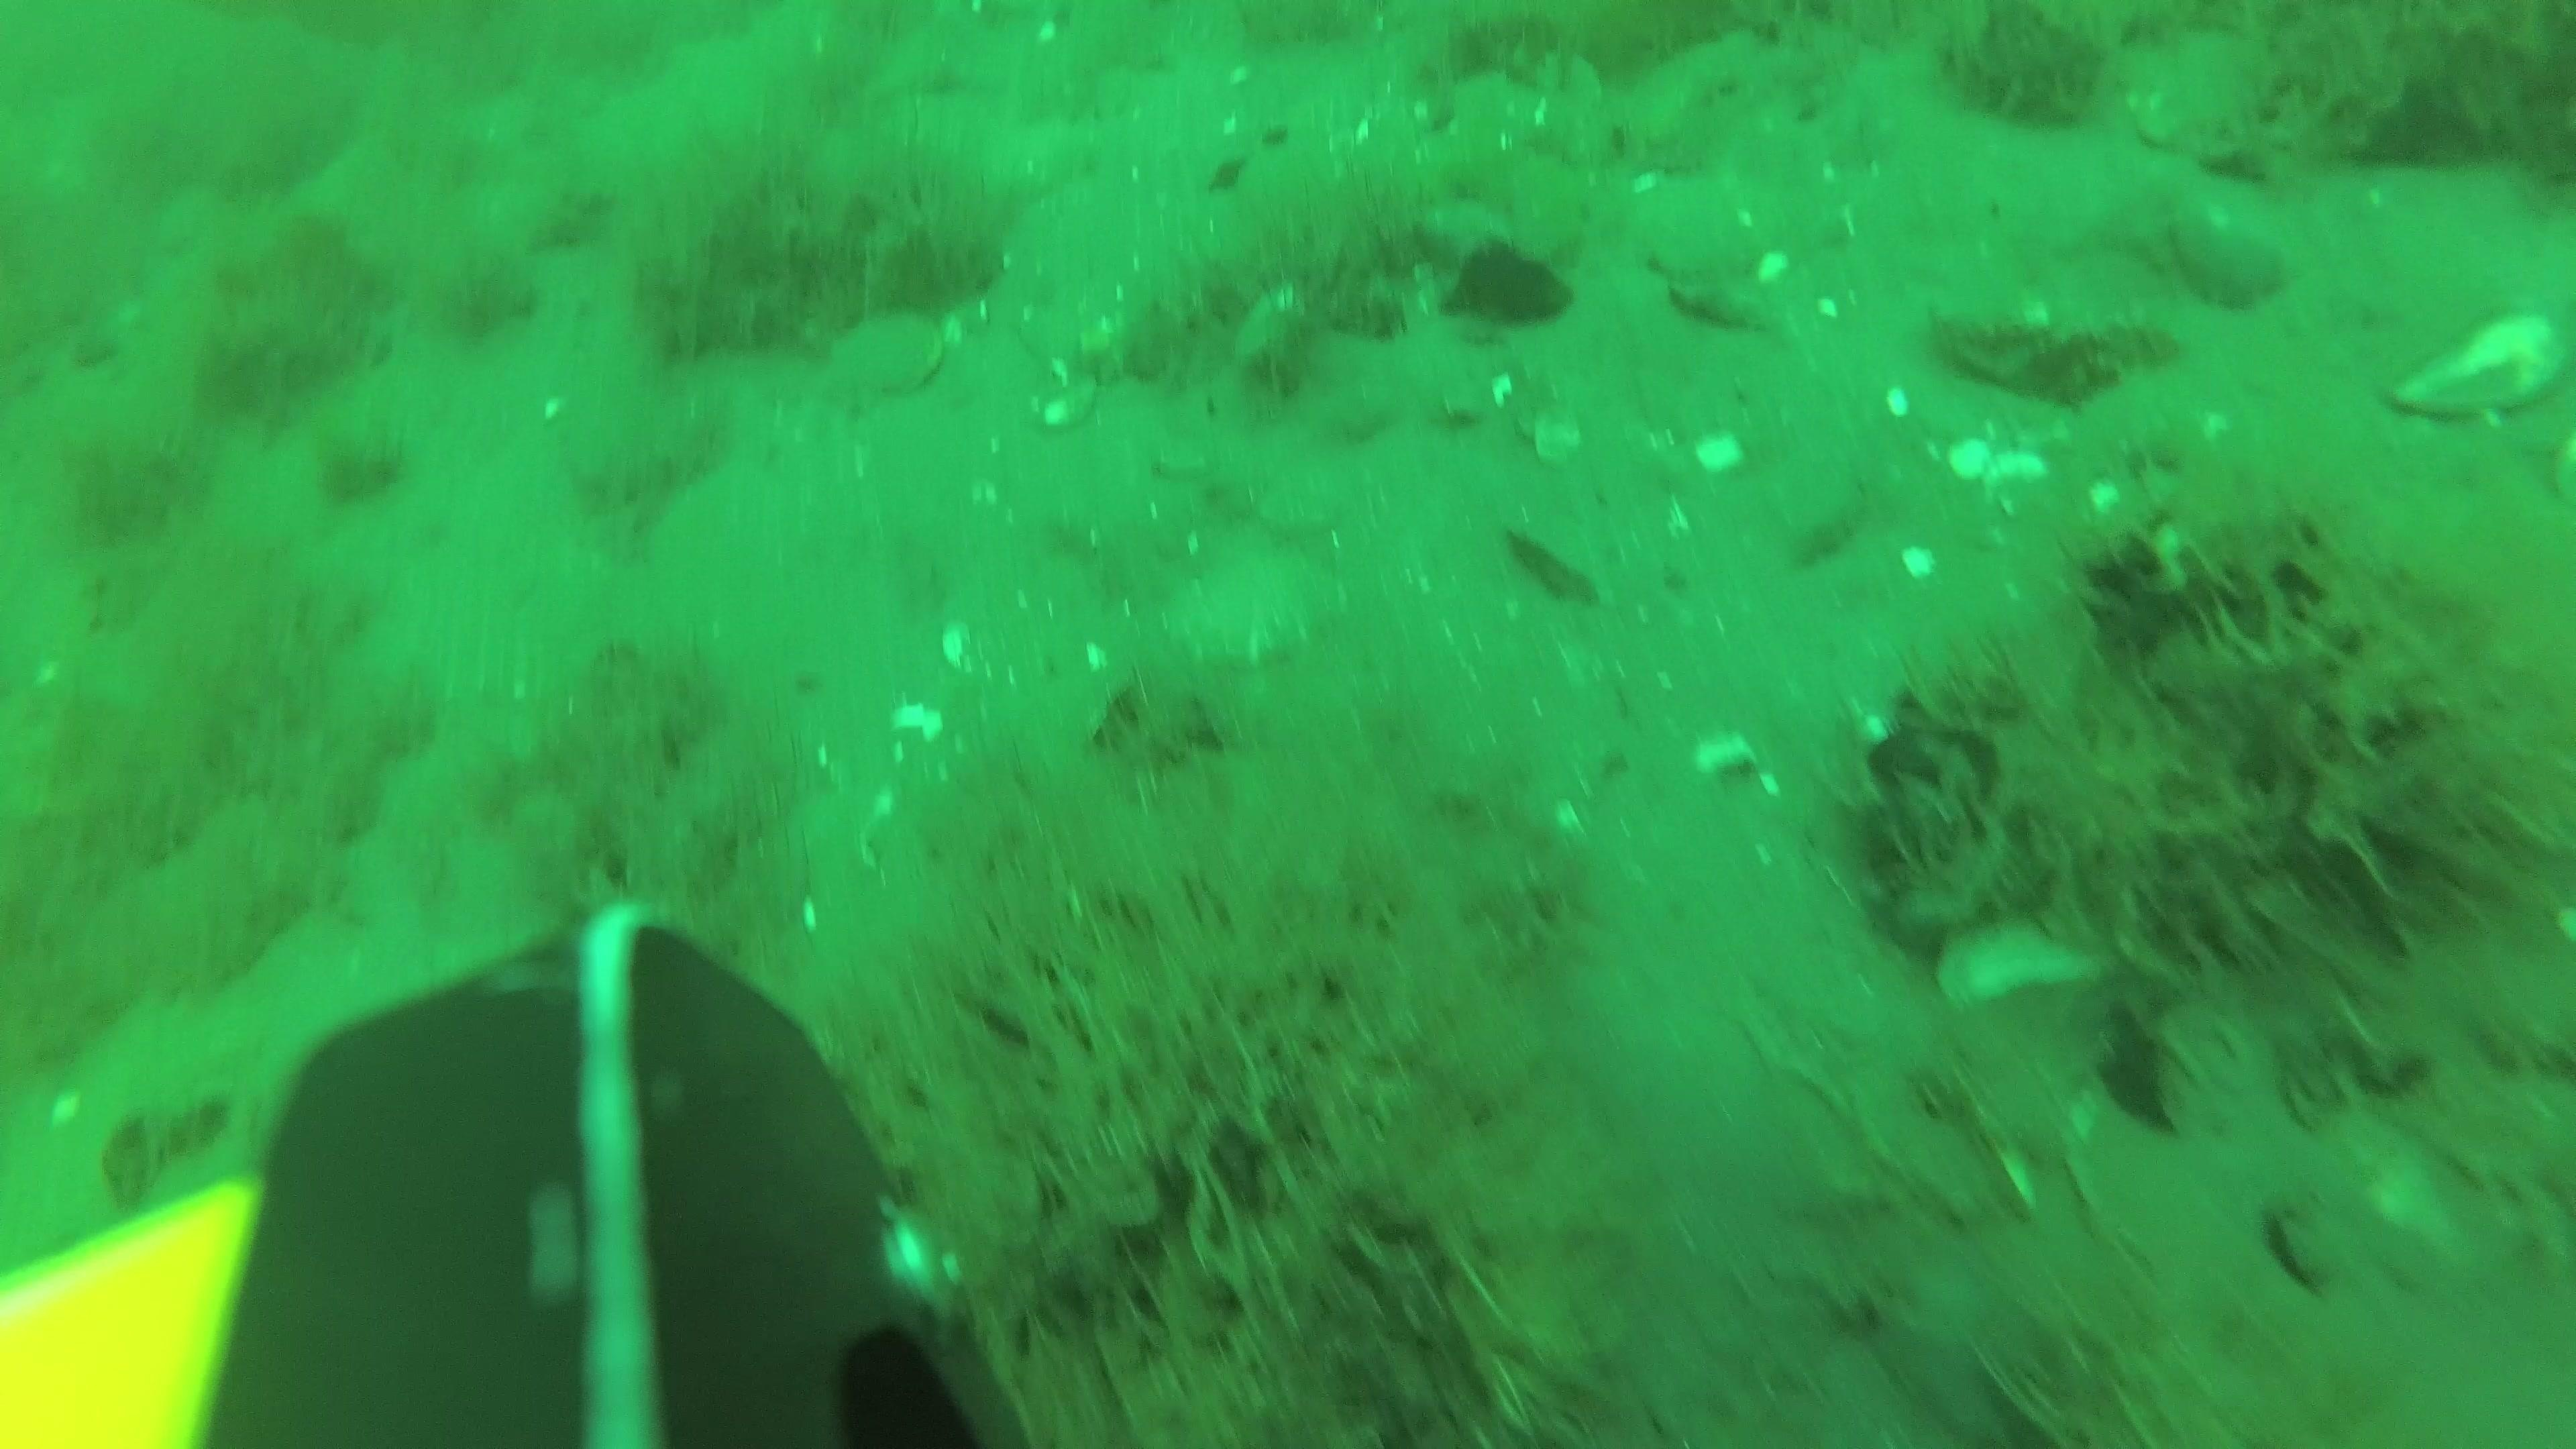scallop: (1162, 547, 1341, 671), (1444, 55, 1605, 157), (821, 310, 950, 409), (1254, 464, 1355, 536)
